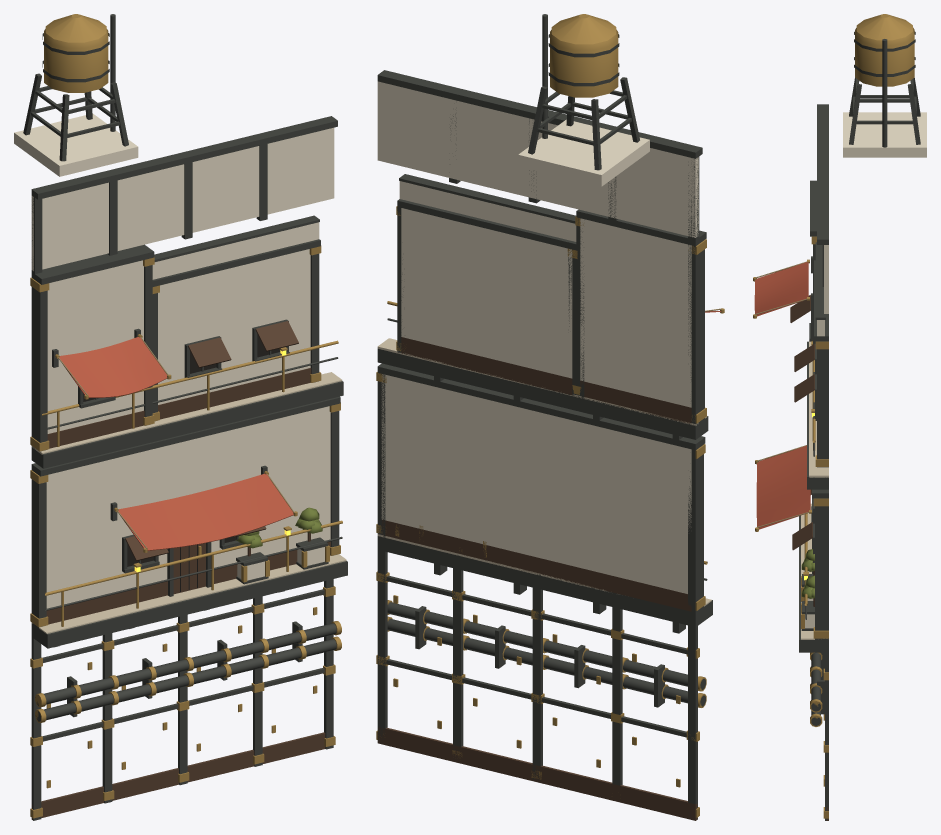
Rendered from terrace_d.glb.
3 renders of one model, left to right at view 1: azimuth 30°, elevation 25°; view 2: azimuth 150°, elevation 25°; view 3: azimuth 270°, elevation 25°, orthographic. The views are drawn at different scales.
Parts seen in each view (by area): view 1: terrace_d; view 2: terrace_d; view 3: terrace_d.
Boxes of the visible parts, bbox=[...] form: terrace_d: bbox=[14, 14, 347, 820]; terrace_d: bbox=[376, 14, 724, 820]; terrace_d: bbox=[753, 14, 926, 820].
Size of the model in its own units: 8.06 by 19.43 by 4.35.
